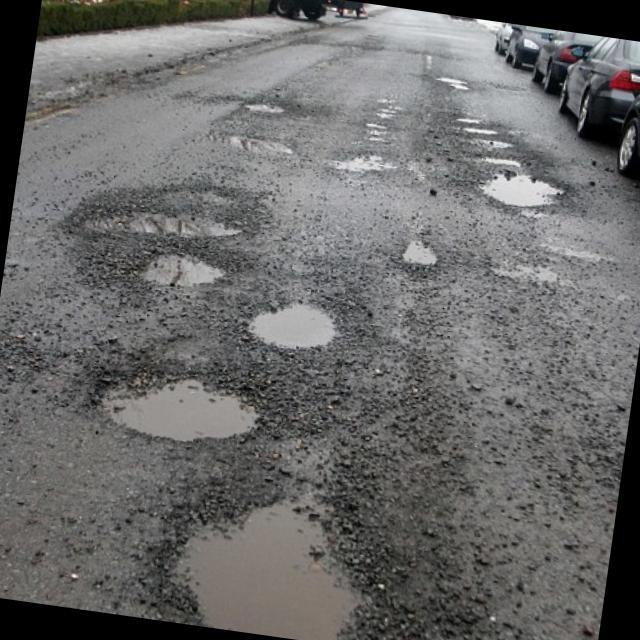Pothole: (139, 476, 464, 640), (228, 266, 392, 380), (60, 188, 260, 268), (90, 344, 253, 442), (119, 240, 256, 305), (220, 84, 358, 144), (377, 224, 480, 295), (470, 170, 586, 229), (346, 150, 452, 197), (450, 124, 535, 160), (220, 128, 298, 164), (468, 154, 538, 172), (459, 118, 508, 138)
